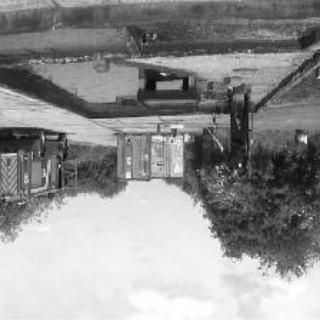other: (1, 142, 78, 210), (288, 128, 312, 150)
